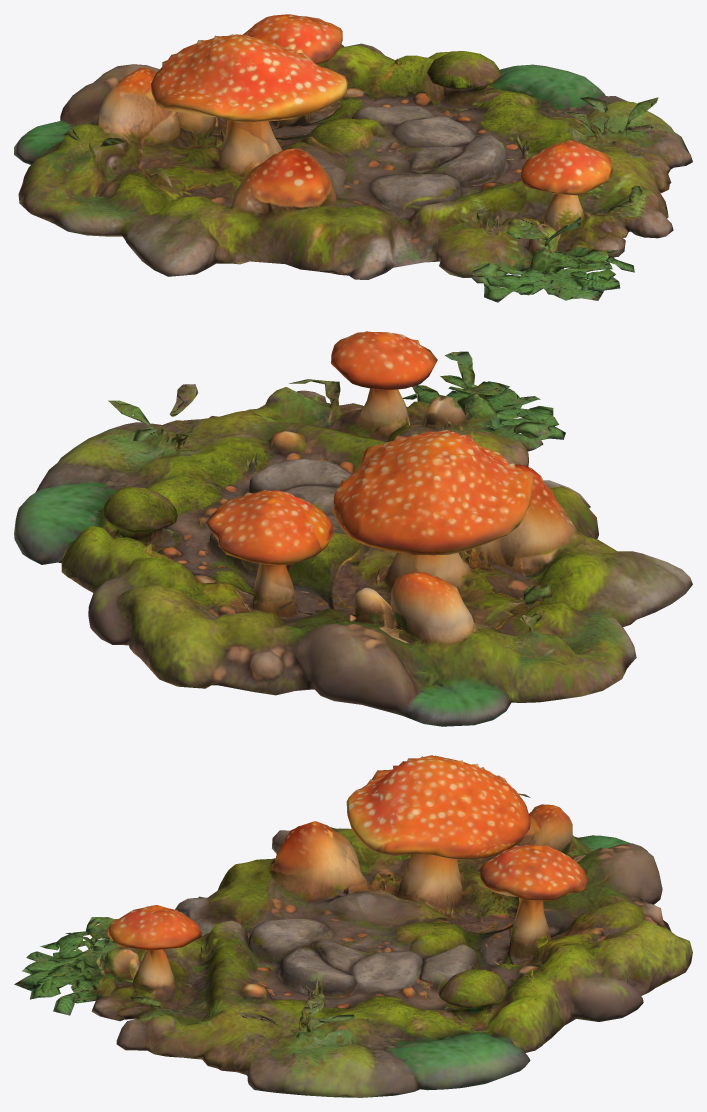
The model's file is rocky_ground_covered__0610145314_texture.fbx.
3 views of the same model, one above another, from view 1: azimuth 30°, elevation 25°; view 2: azimuth 150°, elevation 25°; view 3: azimuth 270°, elevation 25° (orthographic). The views are drawn at different scales.
Visible parts, largest first — view 1: Mesh1; view 2: Mesh1; view 3: Mesh1.
Part boxes in pixels (bbox=[...]): Mesh1: bbox=[14, 14, 692, 302]; Mesh1: bbox=[14, 331, 692, 726]; Mesh1: bbox=[14, 755, 692, 1097].
Bounding box in the file's own units: 193 × 49.98 × 199.
1 material, 1 textured.
